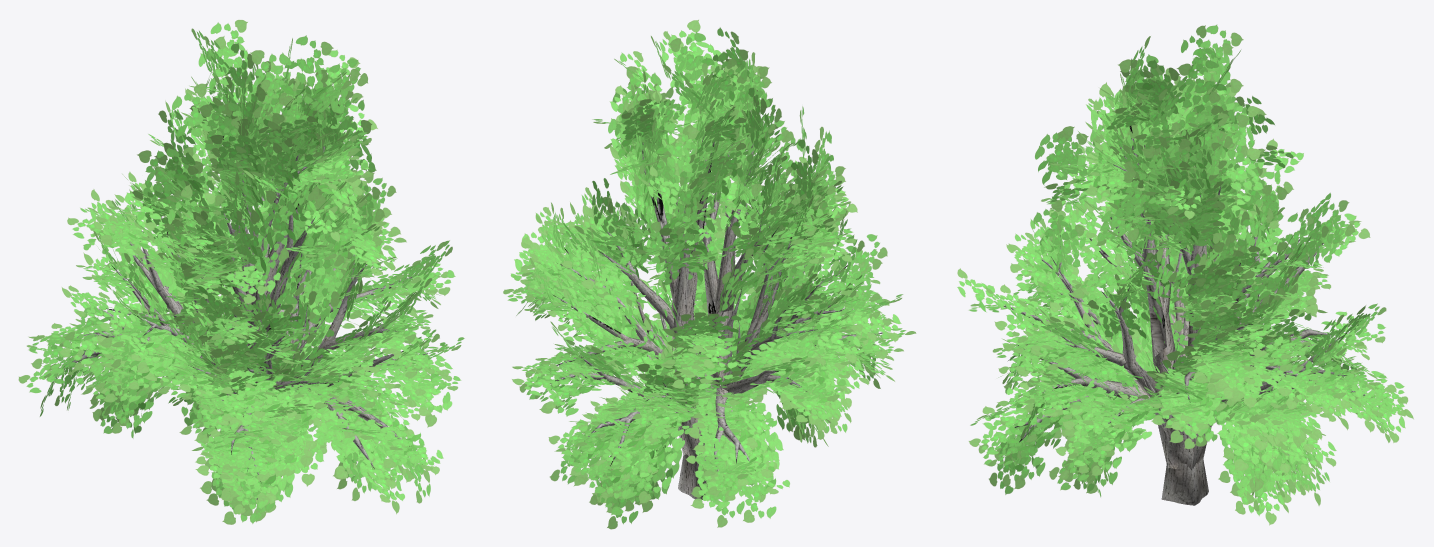
File: tree-02.glb
The picture shows the model from 3 angles, left to right: view 1: azimuth 30°, elevation 25°; view 2: azimuth 150°, elevation 25°; view 3: azimuth 270°, elevation 25°; orthographic projection. The views are drawn at different scales.
Visible parts, largest first — view 1: Object_2; view 2: Object_2; view 3: Object_2.
Part boxes in pixels (<box>): Object_2: <box>18,20,464,524</box>; Object_2: <box>503,19,916,529</box>; Object_2: <box>957,24,1413,525</box>.
Size of the model in its own units: 6.85 by 8 by 7.34.
2 materials, 2 textured.
